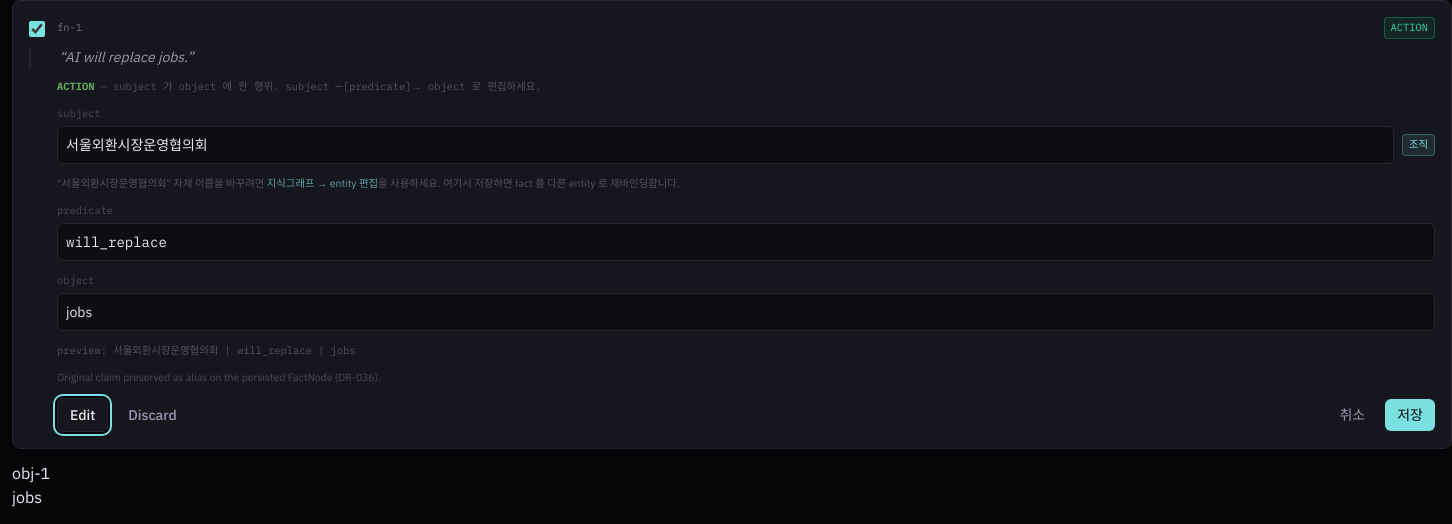
Test: FactCard - decide-chip-click-bind: LIVE click path (parent re-renders) › LIVE subject chip click: input value stays at chip primary_label after parent re-render
The width and height of the screenshot is (1452, 524).
// User types "중국 상무"
Replace the text in the field with test id "fact-edit-subject-fn-1" with "중국 상무" at (725, 145), box [57, 126, 1394, 164]
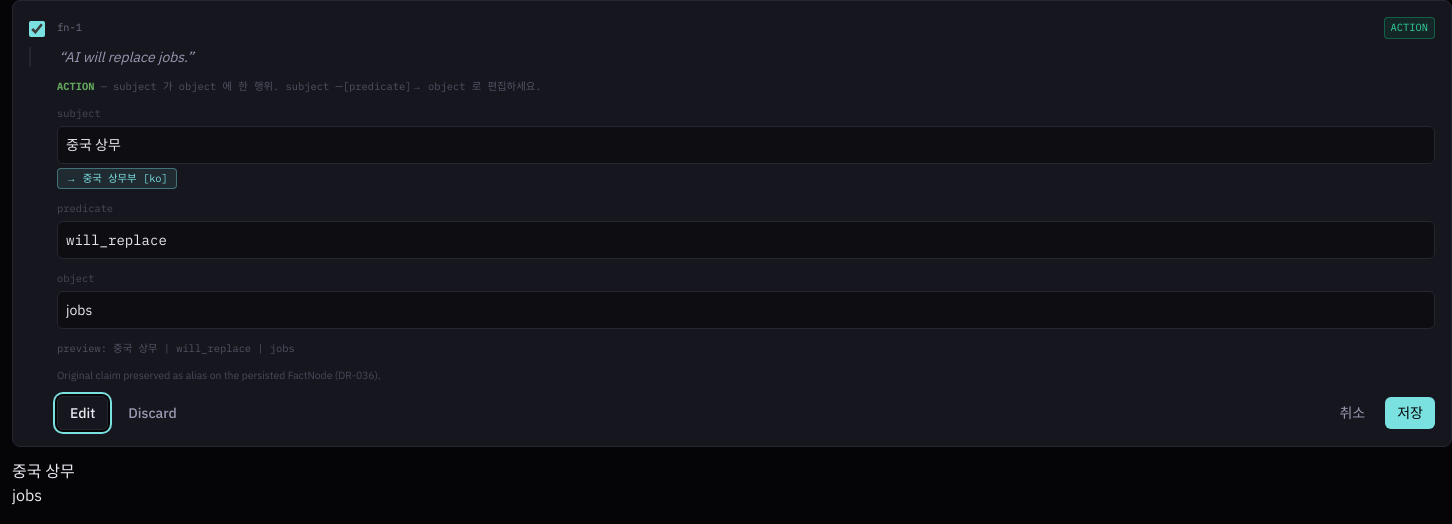
Result: the button with test id "subject-chip-uuid-mocchina" is shown
// User clicks chip
Click the button with test id "subject-chip-uuid-mocchina" at (117, 179), box [57, 168, 177, 189]
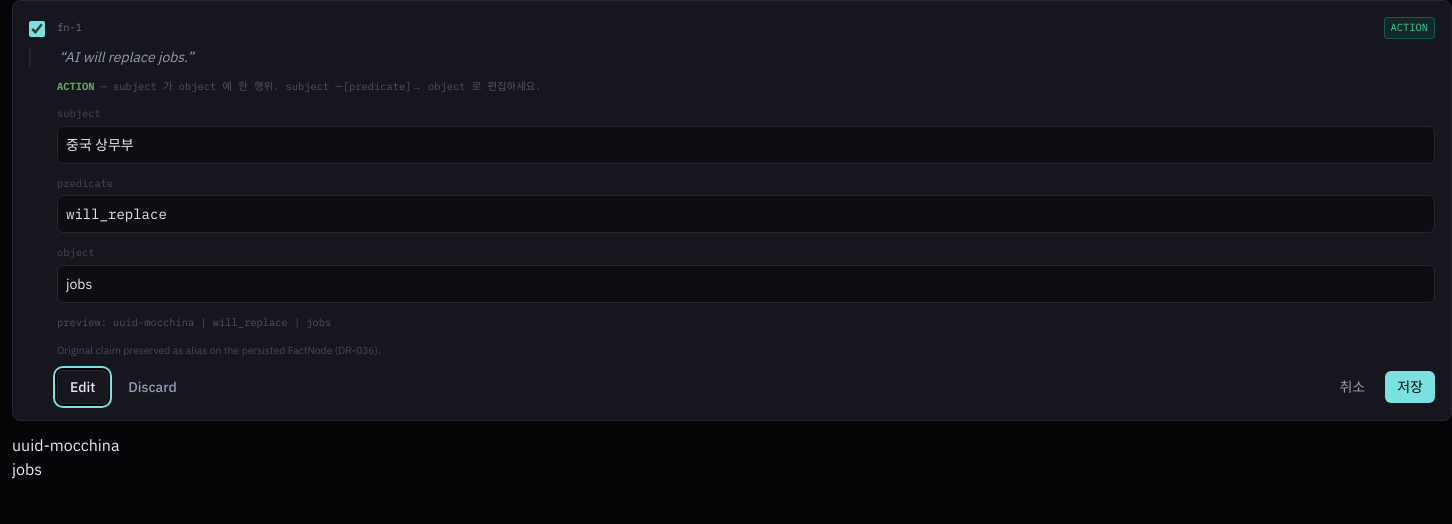
Result: the field with test id "fact-edit-subject-fn-1" holds "중국 상무부" at [57, 126, 1435, 164]
Result: the field with test id "fact-edit-subject-fn-1" does not hold "중국 상무" at [57, 126, 1435, 164]
